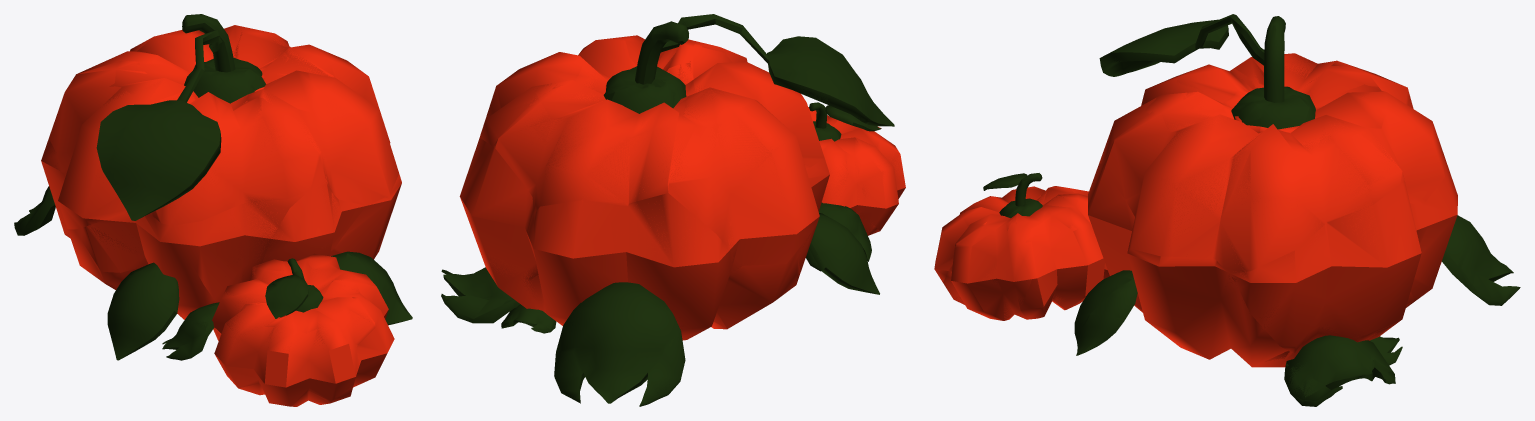
The model's file is D_BigPumpkin.fbx.
3 renders of one model, left to right at view 1: azimuth 30°, elevation 25°; view 2: azimuth 150°, elevation 25°; view 3: azimuth 270°, elevation 25°, orthographic. The views are drawn at different scales.
Visible parts, largest first — view 1: BigPumpkin, BigPumpkin_Part_1, BigPumpkin_Part_14, BigPumpkin_Part_17, BigPumpkin_Part_3, BigPumpkin_Part_12, BigPumpkin_Part_10, BigPumpkin_Part_8, BigPumpkin_Part_5, BigPumpkin_Part_13, BigPumpkin_Part_18, BigPumpkin_Part_7 (+4 smaller); view 2: BigPumpkin_Part_7, BigPumpkin, BigPumpkin_Part_3, BigPumpkin_Part_15, BigPumpkin_Part_1, BigPumpkin_Part_9, BigPumpkin_Part_17, BigPumpkin_Part_18, BigPumpkin_Part_2, BigPumpkin_Part_14, BigPumpkin_Part_4, BigPumpkin_Part_12 (+3 smaller); view 3: BigPumpkin, BigPumpkin_Part_9, BigPumpkin_Part_18, BigPumpkin_Part_12, BigPumpkin_Part_13, BigPumpkin_Part_10, BigPumpkin_Part_15, BigPumpkin_Part_7, BigPumpkin_Part_1, BigPumpkin_Part_5, BigPumpkin_Part_4, BigPumpkin_Part_14 (+3 smaller).
Boxes of the visible parts, x1=… form: BigPumpkin: x1=23, y1=16, x2=412, y2=401; BigPumpkin_Part_1: x1=107, y1=30, x2=326, y2=225; BigPumpkin_Part_14: x1=214, y1=270, x2=375, y2=406; BigPumpkin_Part_17: x1=75, y1=212, x2=217, y2=360; BigPumpkin_Part_3: x1=49, y1=22, x2=188, y2=229; BigPumpkin_Part_12: x1=215, y1=30, x2=399, y2=205; BigPumpkin_Part_10: x1=206, y1=183, x2=386, y2=340; BigPumpkin_Part_8: x1=172, y1=191, x2=307, y2=306; BigPumpkin_Part_5: x1=223, y1=279, x2=394, y2=406; BigPumpkin_Part_13: x1=329, y1=174, x2=412, y2=325; BigPumpkin_Part_18: x1=261, y1=31, x2=386, y2=132; BigPumpkin_Part_7: x1=14, y1=138, x2=70, y2=238; BigPumpkin_Part_7: x1=527, y1=193, x2=741, y2=406; BigPumpkin: x1=441, y1=18, x2=905, y2=403; BigPumpkin_Part_3: x1=668, y1=29, x2=869, y2=265; BigPumpkin_Part_15: x1=495, y1=22, x2=687, y2=214; BigPumpkin_Part_1: x1=682, y1=14, x2=894, y2=170; BigPumpkin_Part_9: x1=441, y1=128, x2=538, y2=321; BigPumpkin_Part_17: x1=796, y1=158, x2=879, y2=294; BigPumpkin_Part_18: x1=479, y1=52, x2=584, y2=147; BigPumpkin_Part_2: x1=717, y1=252, x2=800, y2=328; BigPumpkin_Part_14: x1=808, y1=105, x2=905, y2=230; BigPumpkin_Part_4: x1=552, y1=21, x2=676, y2=101; BigPumpkin_Part_12: x1=578, y1=17, x2=694, y2=77; BigPumpkin: x1=955, y1=17, x2=1514, y2=405; BigPumpkin_Part_9: x1=1230, y1=181, x2=1428, y2=406; BigPumpkin_Part_18: x1=1212, y1=124, x2=1404, y2=273; BigPumpkin_Part_12: x1=1104, y1=30, x2=1260, y2=258; BigPumpkin_Part_13: x1=1076, y1=248, x2=1307, y2=406; BigPumpkin_Part_10: x1=1016, y1=163, x2=1142, y2=341; BigPumpkin_Part_15: x1=1270, y1=16, x2=1444, y2=205; BigPumpkin_Part_7: x1=1408, y1=96, x2=1520, y2=305; BigPumpkin_Part_1: x1=1099, y1=14, x2=1257, y2=169; BigPumpkin_Part_5: x1=943, y1=208, x2=1064, y2=320; BigPumpkin_Part_4: x1=1256, y1=24, x2=1334, y2=145; BigPumpkin_Part_14: x1=934, y1=173, x2=1040, y2=282.
Size of the model in its own units: 64.22 by 53.22 by 95.08.
